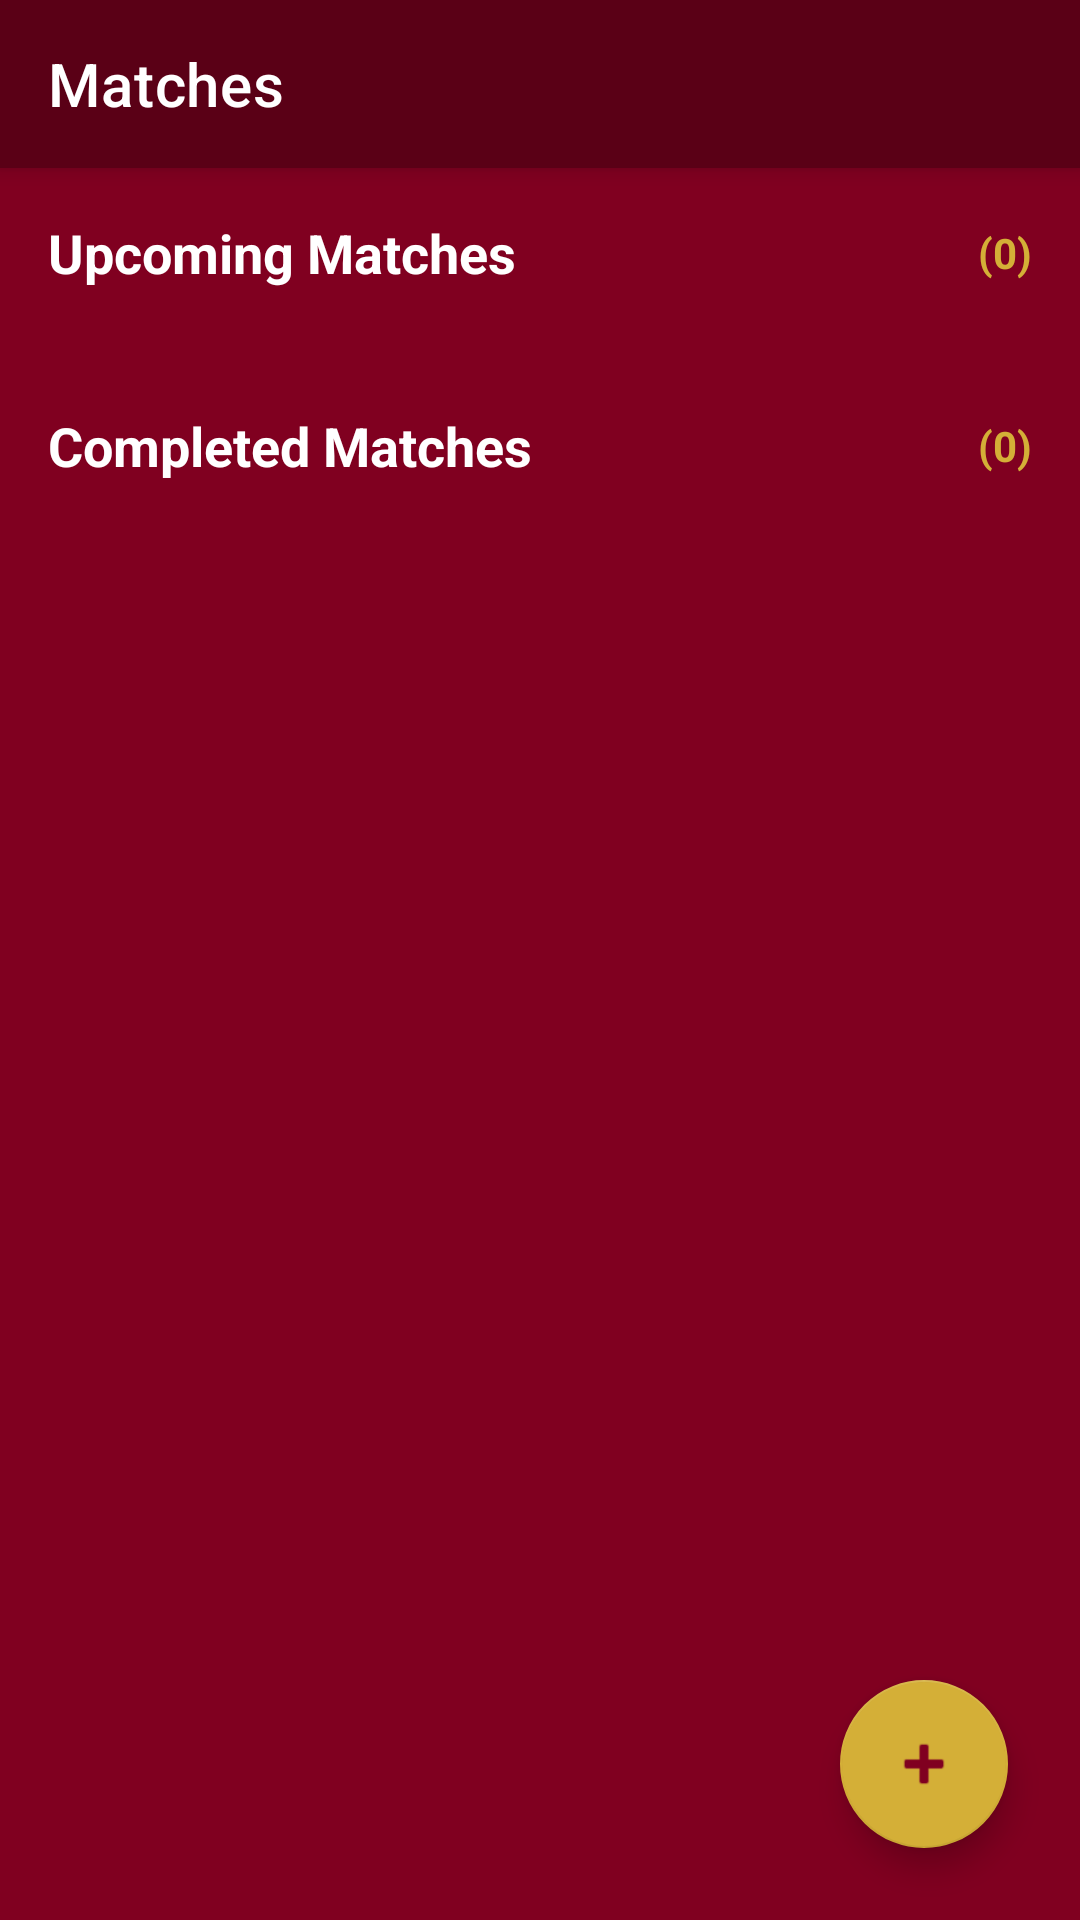

Point at icon controls on the screen. Image size 1080*1920, points as (x,y).
Add Match: (924,1764)
